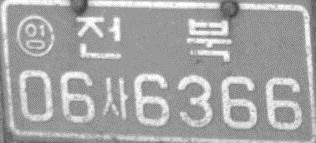0: (18, 68, 53, 121)
3: (176, 73, 213, 128)
6: (132, 73, 171, 127), (220, 75, 257, 130), (265, 76, 302, 131), (58, 70, 95, 123)
사: (102, 76, 128, 119)
영: (16, 14, 54, 57)
전북_D: (74, 14, 232, 64)
